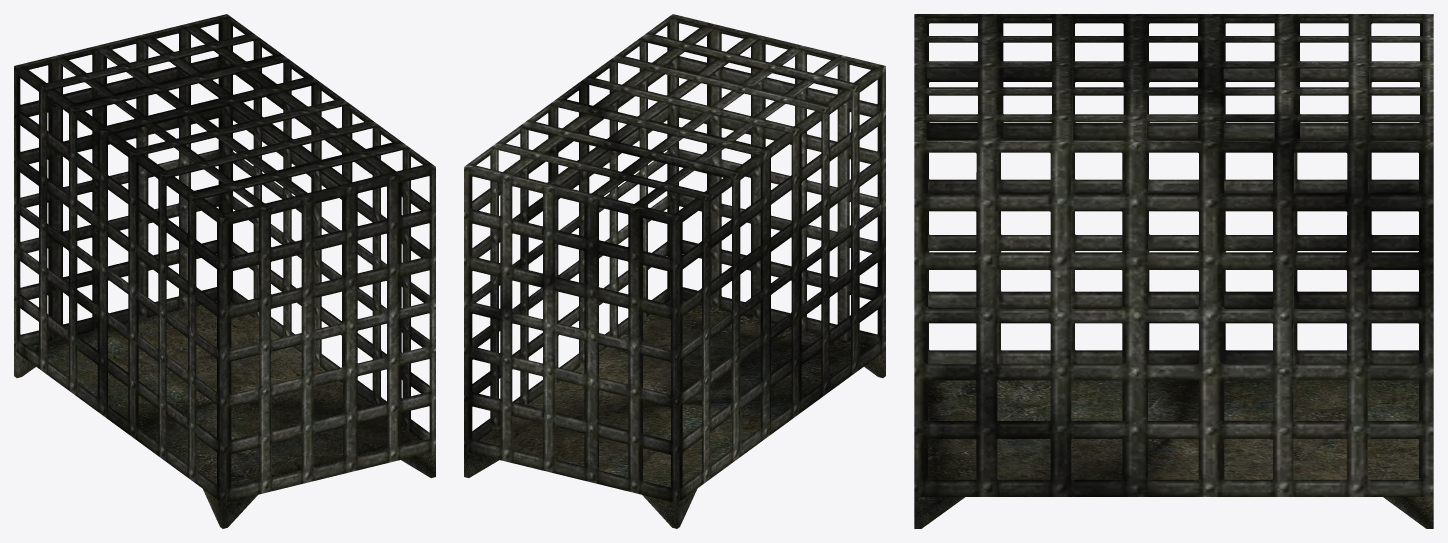
Rendered from KM_VOB_CAGE_02.glb.
3 renders of one model, left to right at view 1: azimuth 30°, elevation 25°; view 2: azimuth 150°, elevation 25°; view 3: azimuth 270°, elevation 25°, orthographic. The views are drawn at different scales.
Visible parts, largest first — view 1: Mesh; view 2: Mesh; view 3: Mesh.
Boxes of the visible parts, <box> form: Mesh: <box>14,14,435,528</box>; Mesh: <box>464,14,885,528</box>; Mesh: <box>914,14,1433,528</box>.
Size of the model in its own units: 1.08 by 1.5 by 1.83.
2 materials, 2 textured.
